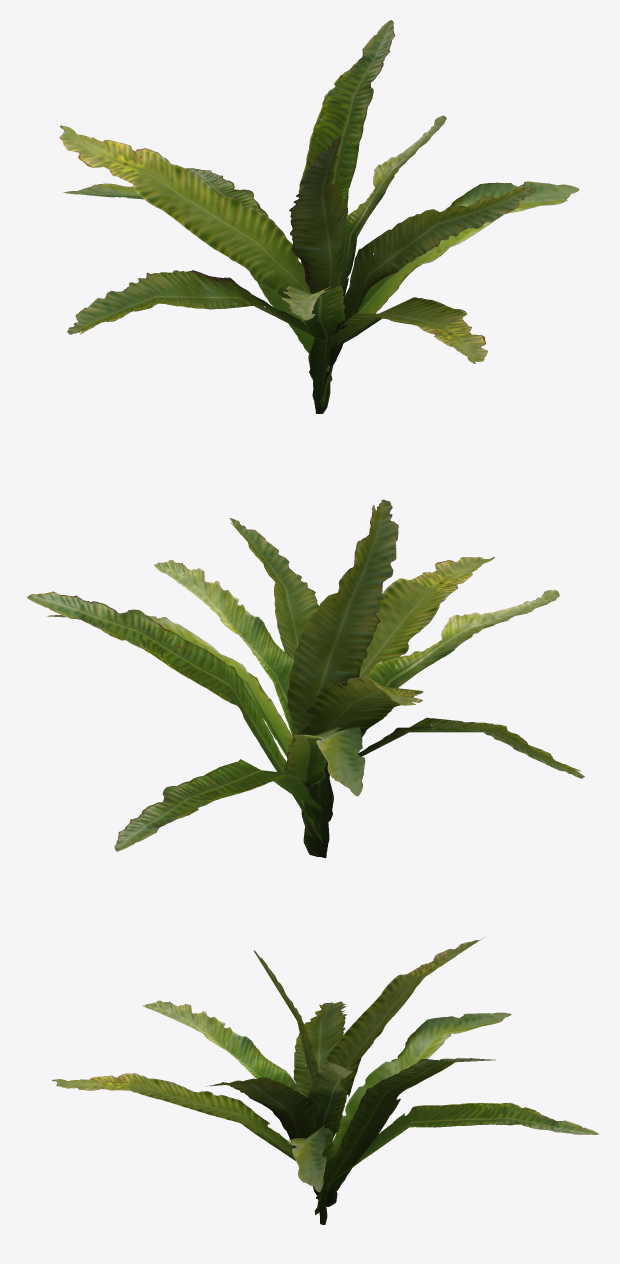
File: Forest_Plant4.fbx
3 renders of one model, top to bottom at view 1: azimuth 30°, elevation 25°; view 2: azimuth 150°, elevation 25°; view 3: azimuth 270°, elevation 25°, orthographic. The views are drawn at different scales.
Parts seen in each view (by area): view 1: forest_plant4; view 2: forest_plant4; view 3: forest_plant4.
Boxes of the visible parts, <box> form: forest_plant4: <box>59,20,579,413</box>; forest_plant4: <box>27,499,584,858</box>; forest_plant4: <box>52,937,598,1224</box>.
Bounding box in the file's own units: 2.8 × 1.73 × 3.02.
